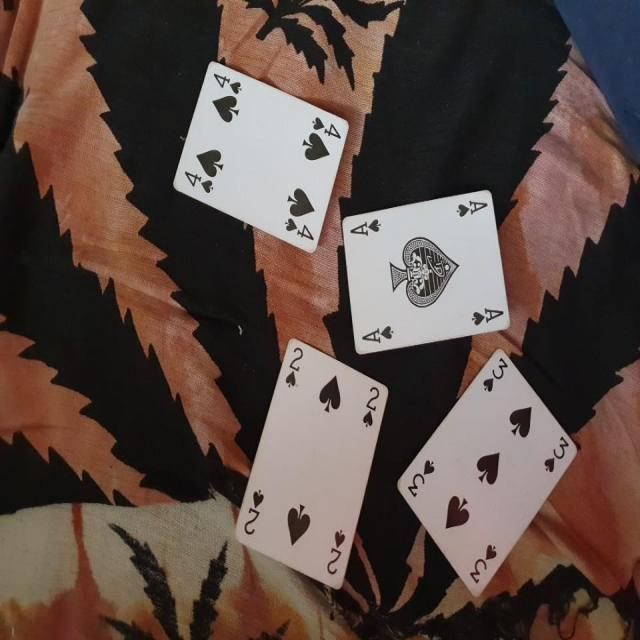2 Spades: (227, 340, 391, 590)
3 Spades: (390, 345, 580, 596)
4 Spades: (170, 56, 352, 253)
A Spades: (338, 190, 517, 356)
